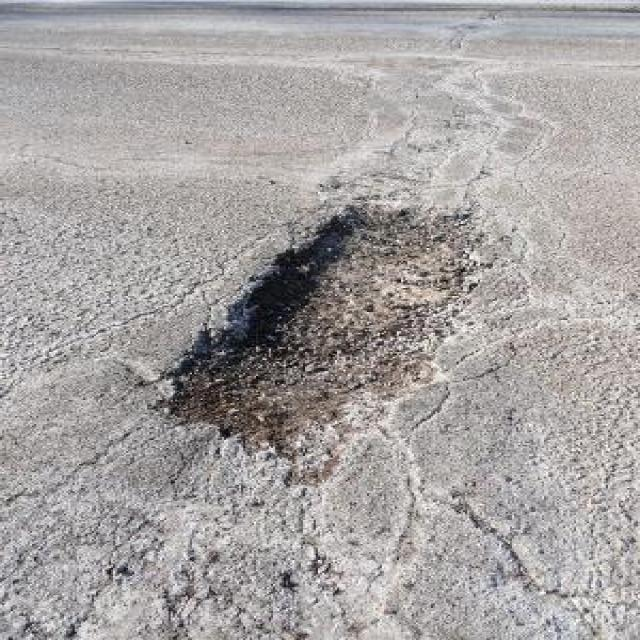Pothole: (155, 195, 505, 478)
